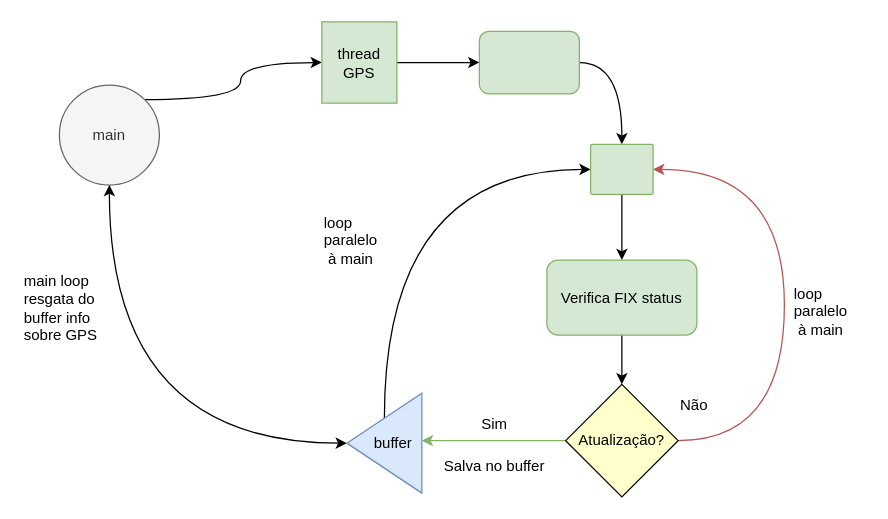
Some shapes in this 888 by 519 pixel diagram are drawn without their labels. The shapes that lost their labels are listed below. From the top down, each one's centre as x and y in pixels, then its label:
[528,62]: Inicializa GPS
[621,168]: Lê GPS
